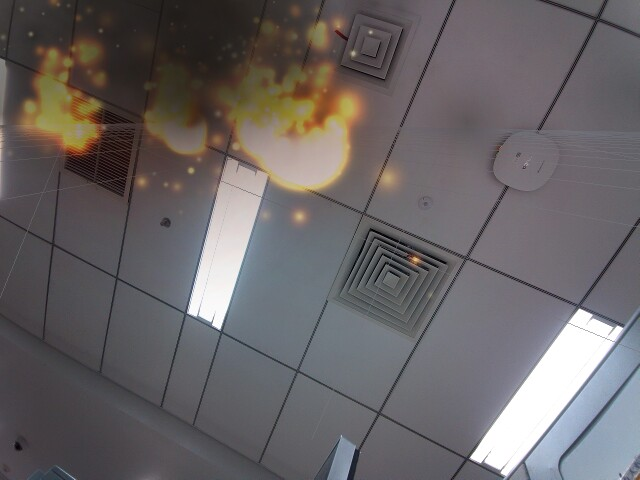fire: (259, 109, 352, 192), (235, 108, 283, 161), (167, 111, 211, 156)
